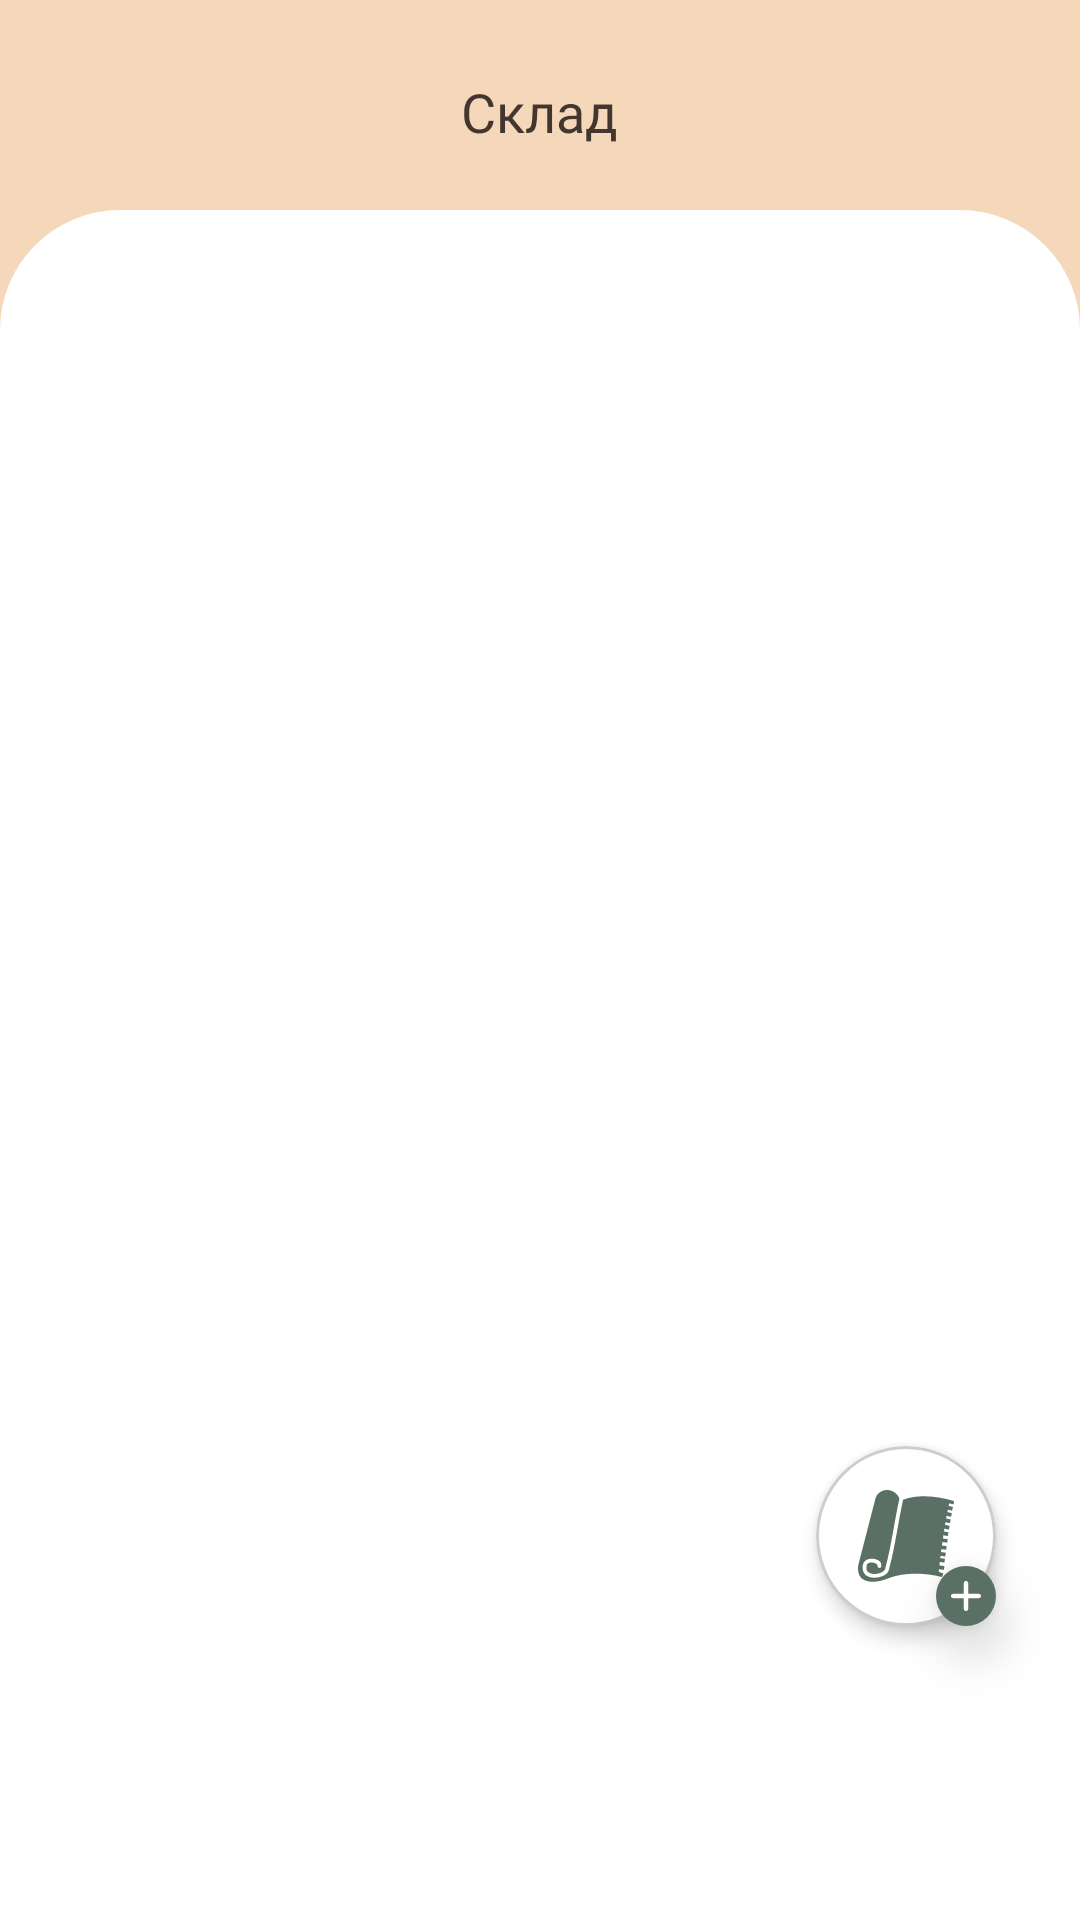

Locate icon controls on the screen. Image size 1080x1920, boxes as (x1, y1, x2, y2).
add: (951, 1581, 981, 1611)
